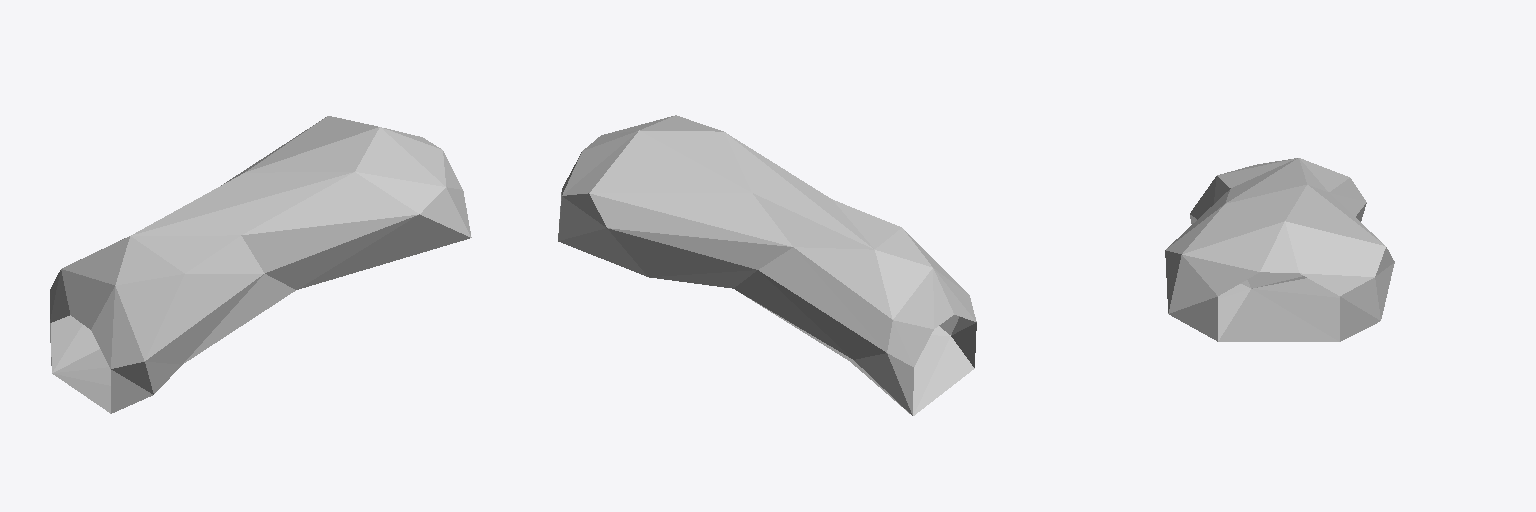
Rendered from Mesh_CavePack_Slope_Long_lod2.obj.
The picture shows the model from 3 angles: view 1: azimuth 30°, elevation 25°; view 2: azimuth 150°, elevation 25°; view 3: azimuth 270°, elevation 25°; orthographic projection.
Visible parts, largest first — view 1: Plane.003; view 2: Plane.003; view 3: Plane.003.
Boxes of the visible parts, x1=… form: Plane.003: x1=50, y1=116, x2=471, y2=413; Plane.003: x1=558, y1=115, x2=976, y2=415; Plane.003: x1=1165, y1=158, x2=1394, y2=341.
Size of the model in its own units: 32.17 by 16.75 by 18.08.